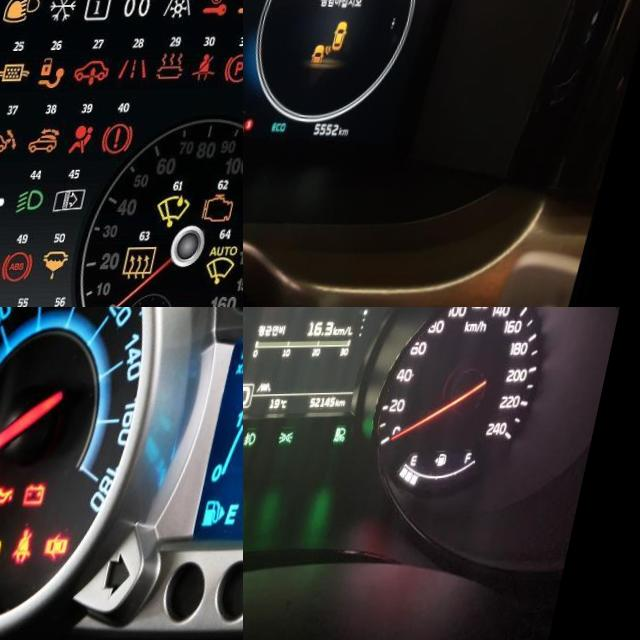Central Warning lamp: (251, 119, 265, 135)
Doors: (60, 533, 89, 561)
FrontFogLight: (260, 431, 275, 447)
SideLamp: (295, 431, 312, 445)
